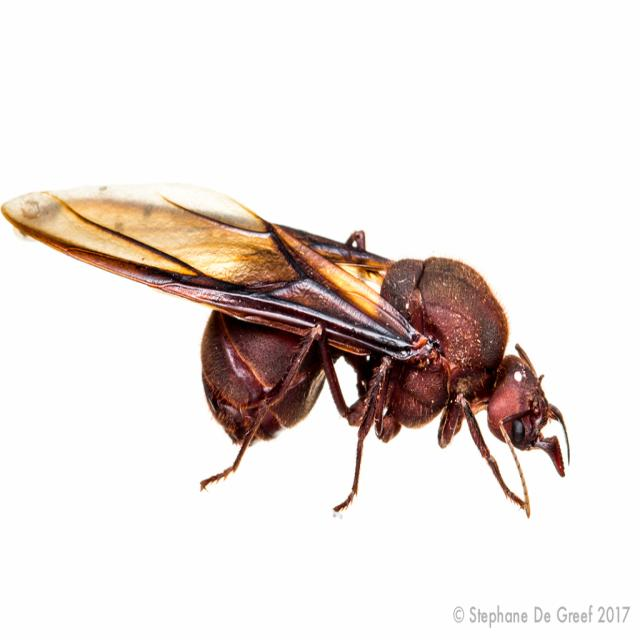Alive-Female-Alate: (2, 178, 571, 520)
